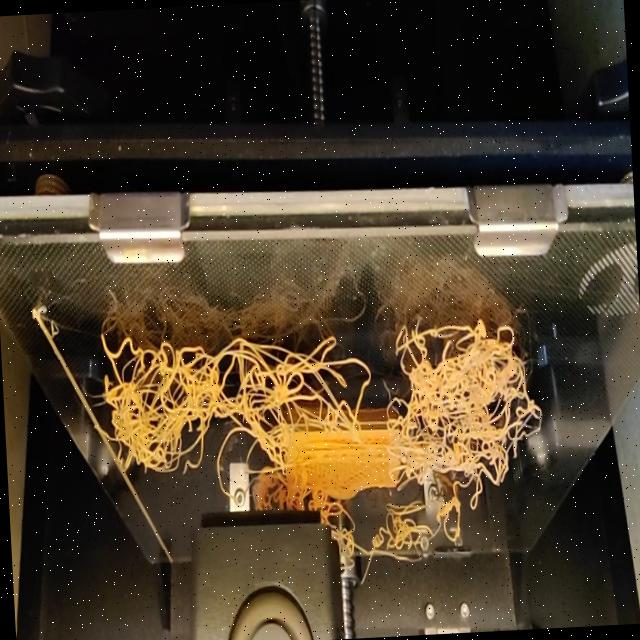spaghetti: (92, 308, 554, 522), (335, 502, 467, 600)
